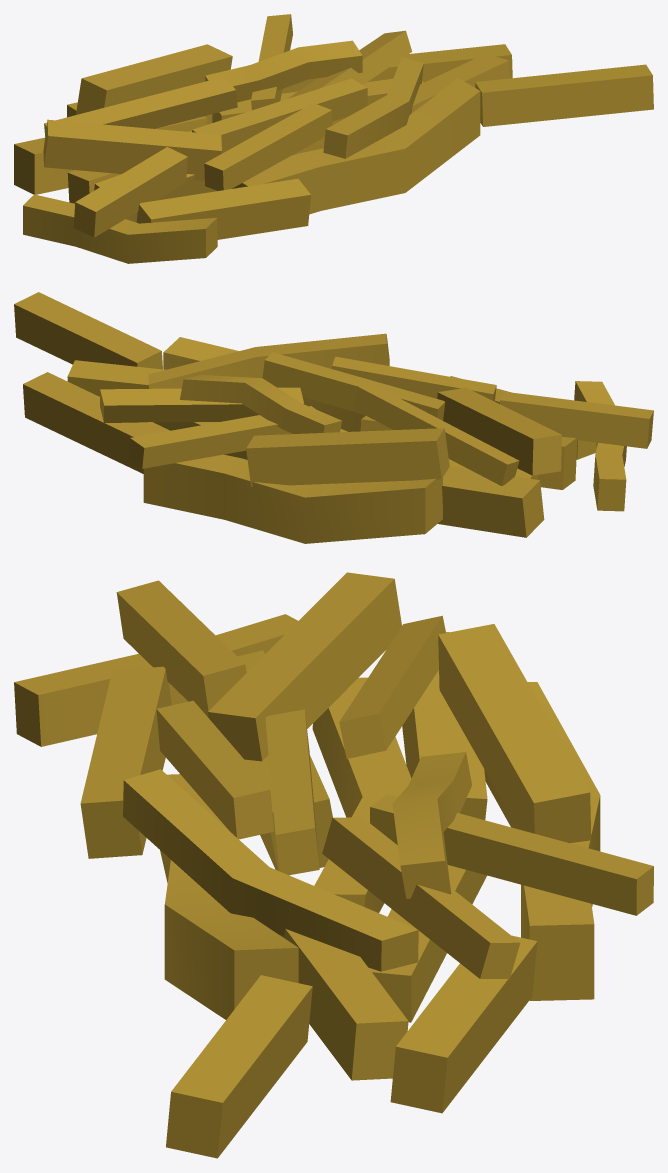
Rendered from mesh_fishandchips_fries.fbx.
The picture shows the model from 3 angles, top to bottom: view 1: azimuth 30°, elevation 25°; view 2: azimuth 150°, elevation 25°; view 3: azimuth 270°, elevation 25°; orthographic projection. The views are drawn at different scales.
Visible parts, largest first — view 1: mesh_fishandchips_fries; view 2: mesh_fishandchips_fries; view 3: mesh_fishandchips_fries.
Part boxes in pixels (x1,y1,x2,y2): mesh_fishandchips_fries: (14, 14, 653, 263); mesh_fishandchips_fries: (14, 292, 653, 543); mesh_fishandchips_fries: (14, 572, 653, 1158).
Bounding box in the file's own units: 0.2637 × 0.0413 × 0.1424.
